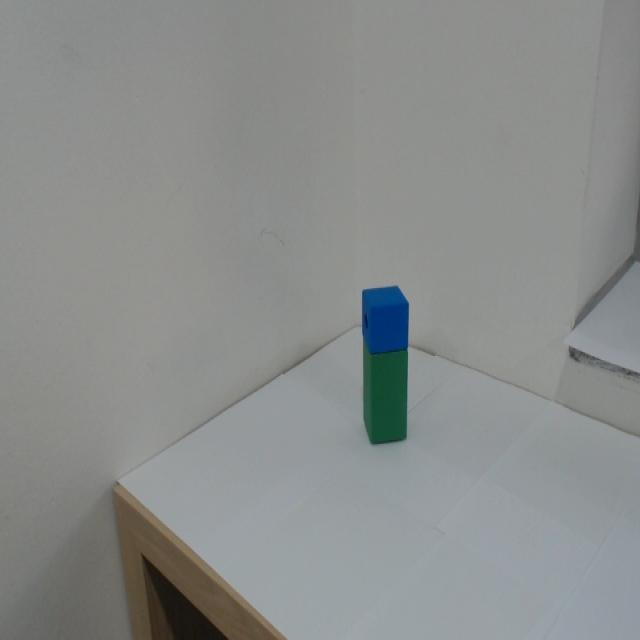cube: (336, 261, 434, 345)
